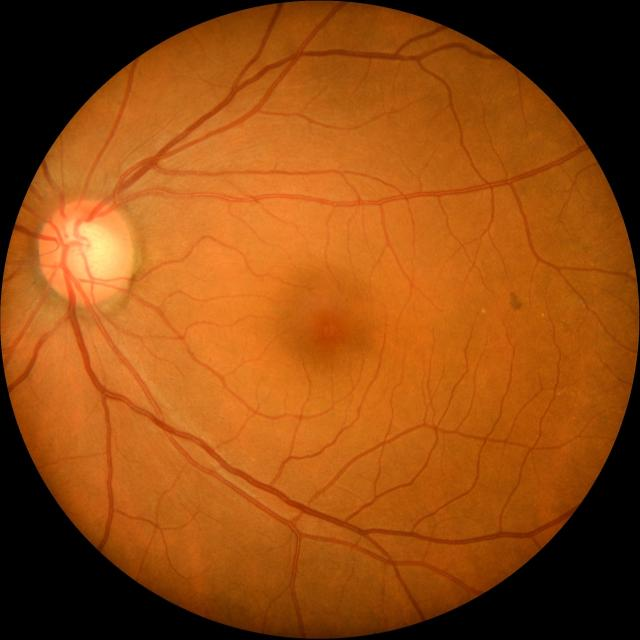OC: (61, 219, 110, 281)
OD: (36, 199, 134, 303)
